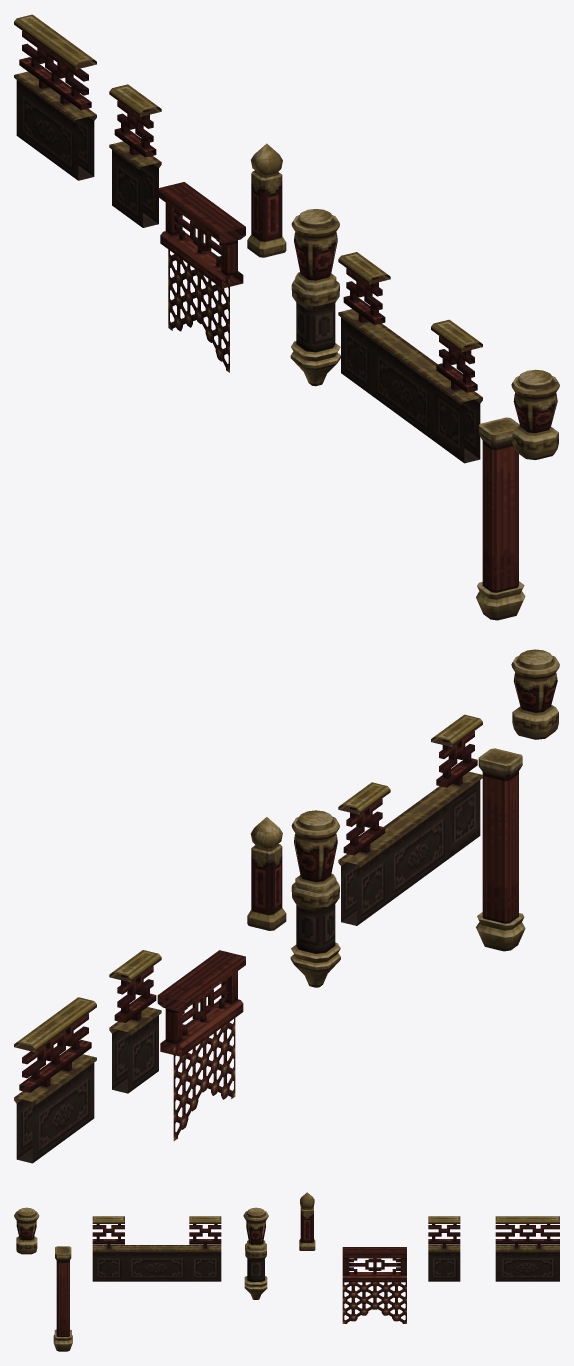
The model's file is EnvMdrMD_Desert_Castle_A_Fence_Post_A.FBX.
The picture shows the model from 3 angles, top to bottom: view 1: azimuth 30°, elevation 25°; view 2: azimuth 150°, elevation 25°; view 3: azimuth 270°, elevation 25°; orthographic projection. The views are drawn at different scales.
Visible parts, largest first — view 1: EnvMdrMD_Desert_Castle_A_Fenece_A_ladder, EnvMdrMD_Desert_Castle_A_Fenece_A, EnvMdrMD_Desert_Castle_A_Fenece_B_Loop_A, EnvMdrMD_Desert_Castle_A_Fence_Post_D, EnvMdrMD_Desert_Castle_A_Fence_Post_C, EnvMdrMD_Desert_Castle_A_Fenece_A_Half, EnvMdrMD_Desert_Castle_A_Fence_Post_B, EnvMdrMD_Desert_Castle_A_Fence_Post_A; view 2: EnvMdrMD_Desert_Castle_A_Fenece_A_ladder, EnvMdrMD_Desert_Castle_A_Fenece_A, EnvMdrMD_Desert_Castle_A_Fenece_B_Loop_A, EnvMdrMD_Desert_Castle_A_Fence_Post_D, EnvMdrMD_Desert_Castle_A_Fence_Post_C, EnvMdrMD_Desert_Castle_A_Fenece_A_Half, EnvMdrMD_Desert_Castle_A_Fence_Post_B, EnvMdrMD_Desert_Castle_A_Fence_Post_A; view 3: EnvMdrMD_Desert_Castle_A_Fenece_A_ladder, EnvMdrMD_Desert_Castle_A_Fenece_A, EnvMdrMD_Desert_Castle_A_Fenece_B_Loop_A, EnvMdrMD_Desert_Castle_A_Fenece_A_Half, EnvMdrMD_Desert_Castle_A_Fence_Post_C, EnvMdrMD_Desert_Castle_A_Fence_Post_D, EnvMdrMD_Desert_Castle_A_Fence_Post_B, EnvMdrMD_Desert_Castle_A_Fence_Post_A.
Part boxes in pixels (x1=…): EnvMdrMD_Desert_Castle_A_Fenece_A_ladder: x1=338, y1=252, x2=482, y2=463; EnvMdrMD_Desert_Castle_A_Fenece_A: x1=14, y1=14, x2=96, y2=180; EnvMdrMD_Desert_Castle_A_Fenece_B_Loop_A: x1=157, y1=182, x2=245, y2=372; EnvMdrMD_Desert_Castle_A_Fence_Post_D: x1=476, y1=417, x2=525, y2=620; EnvMdrMD_Desert_Castle_A_Fence_Post_C: x1=290, y1=209, x2=340, y2=386; EnvMdrMD_Desert_Castle_A_Fenece_A_Half: x1=109, y1=84, x2=161, y2=227; EnvMdrMD_Desert_Castle_A_Fence_Post_B: x1=511, y1=369, x2=559, y2=459; EnvMdrMD_Desert_Castle_A_Fence_Post_A: x1=247, y1=143, x2=286, y2=257; EnvMdrMD_Desert_Castle_A_Fenece_A_ladder: x1=338, y1=714, x2=482, y2=925; EnvMdrMD_Desert_Castle_A_Fenece_A: x1=14, y1=997, x2=96, y2=1163; EnvMdrMD_Desert_Castle_A_Fenece_B_Loop_A: x1=157, y1=950, x2=245, y2=1140; EnvMdrMD_Desert_Castle_A_Fence_Post_D: x1=476, y1=748, x2=525, y2=951; EnvMdrMD_Desert_Castle_A_Fence_Post_C: x1=290, y1=810, x2=340, y2=987; EnvMdrMD_Desert_Castle_A_Fenece_A_Half: x1=109, y1=950, x2=161, y2=1093; EnvMdrMD_Desert_Castle_A_Fence_Post_B: x1=511, y1=649, x2=559, y2=739; EnvMdrMD_Desert_Castle_A_Fence_Post_A: x1=247, y1=817, x2=286, y2=930; EnvMdrMD_Desert_Castle_A_Fenece_A_ladder: x1=92, y1=1216, x2=221, y2=1281; EnvMdrMD_Desert_Castle_A_Fenece_A: x1=495, y1=1216, x2=559, y2=1281; EnvMdrMD_Desert_Castle_A_Fenece_B_Loop_A: x1=342, y1=1247, x2=406, y2=1323; EnvMdrMD_Desert_Castle_A_Fenece_A_Half: x1=428, y1=1216, x2=460, y2=1281; EnvMdrMD_Desert_Castle_A_Fence_Post_C: x1=243, y1=1207, x2=268, y2=1299; EnvMdrMD_Desert_Castle_A_Fence_Post_D: x1=53, y1=1246, x2=72, y2=1351; EnvMdrMD_Desert_Castle_A_Fence_Post_B: x1=14, y1=1207, x2=39, y2=1254; EnvMdrMD_Desert_Castle_A_Fence_Post_A: x1=299, y1=1192, x2=315, y2=1250.
Size of the model in its own units: 78.82 by 535 by 1697.
